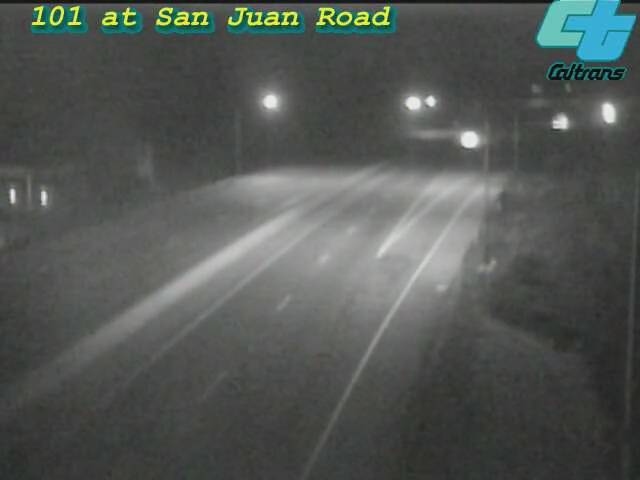vehicle: (537, 99, 587, 149), (444, 116, 494, 166), (536, 95, 586, 145), (584, 89, 634, 139)
